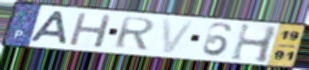6: (200, 22, 235, 59)
A: (27, 10, 69, 46)
H: (229, 22, 281, 65), (67, 11, 115, 49)
R: (112, 16, 157, 51)
V: (160, 17, 198, 55)
